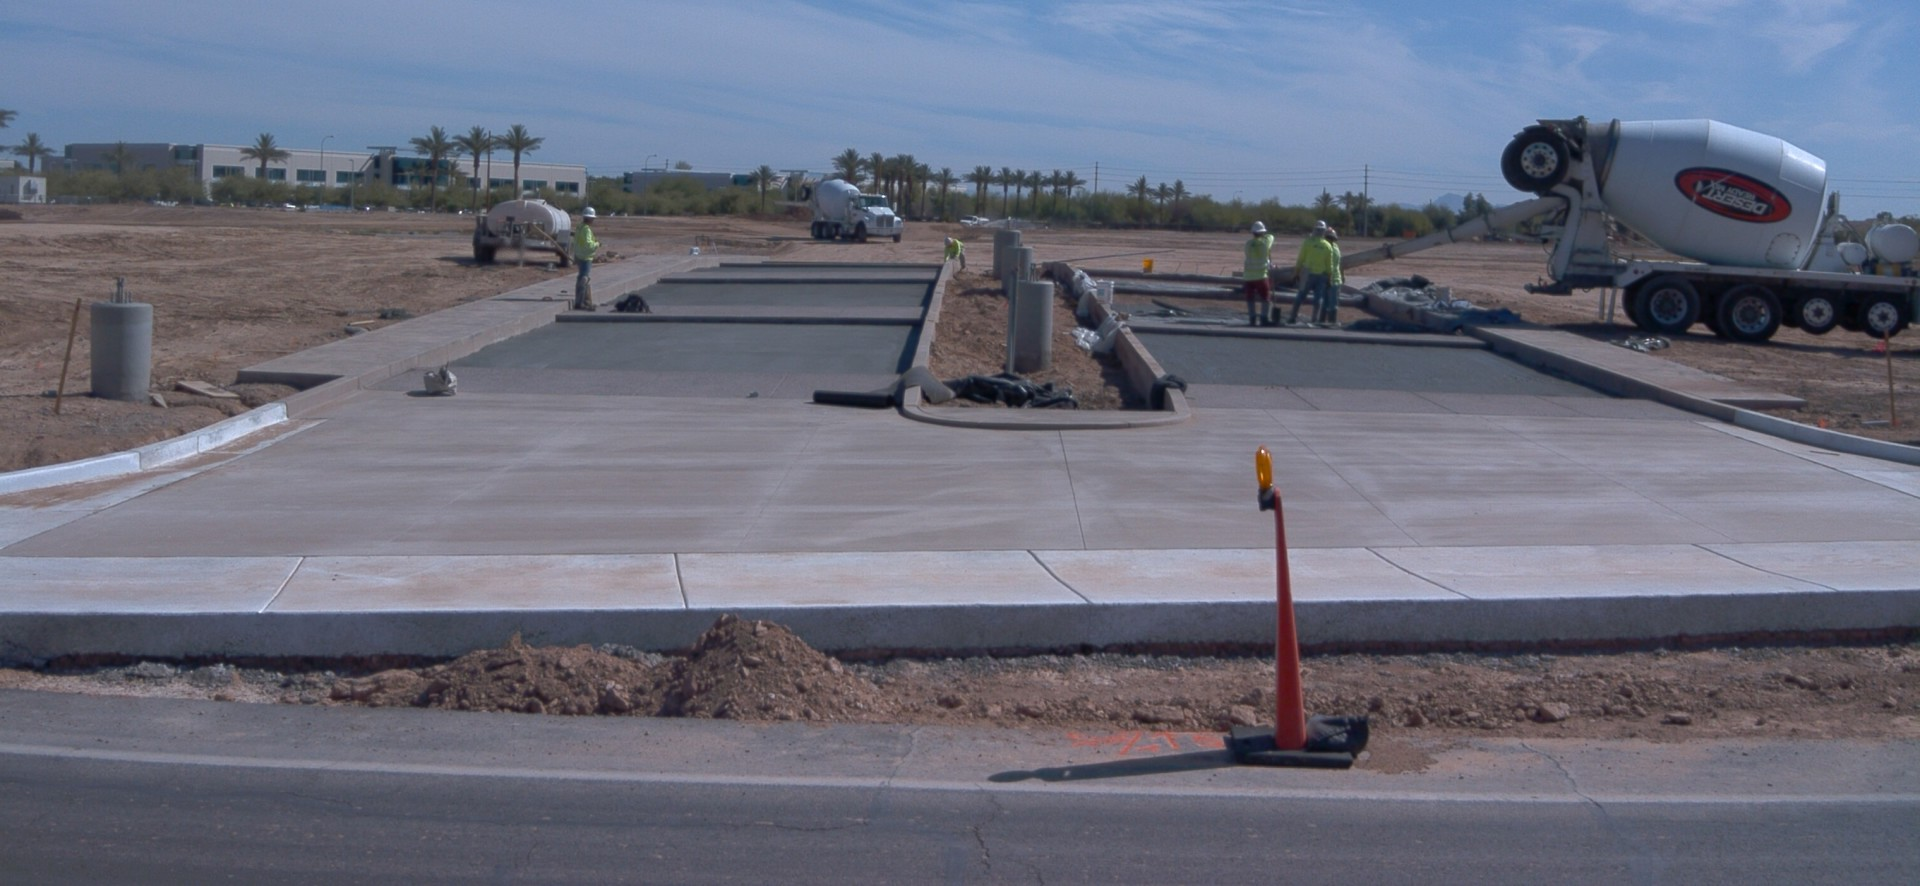TYPE_PEDESTRIAN: (1280, 218, 1336, 330), (1240, 215, 1280, 326), (569, 209, 603, 311), (1319, 224, 1343, 327), (1252, 256, 1279, 302), (943, 238, 967, 268)
TYPE_VEHICLE: (1249, 114, 1916, 342), (798, 170, 906, 245), (469, 197, 584, 267), (958, 212, 991, 229)
